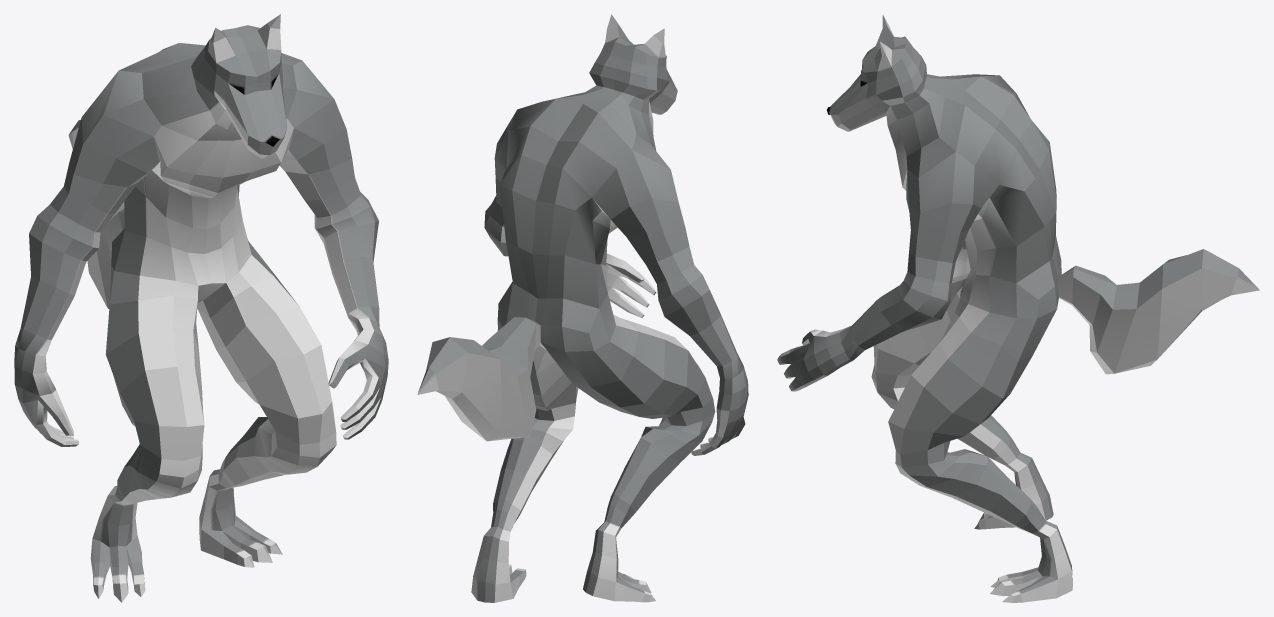
File: WolfWalk(21).obj
3 renders of one model, left to right at view 1: azimuth 30°, elevation 25°; view 2: azimuth 150°, elevation 25°; view 3: azimuth 270°, elevation 25°, orthographic. The views are drawn at different scales.
Visible parts, largest first — view 1: Box001; view 2: Box001; view 3: Box001.
Part boxes in pixels (<box>): Box001: <box>14,14,388,602</box>; Box001: <box>417,14,748,602</box>; Box001: <box>777,15,1259,602</box>.
Bounding box in the file's own units: 76.17 × 136 × 112.
